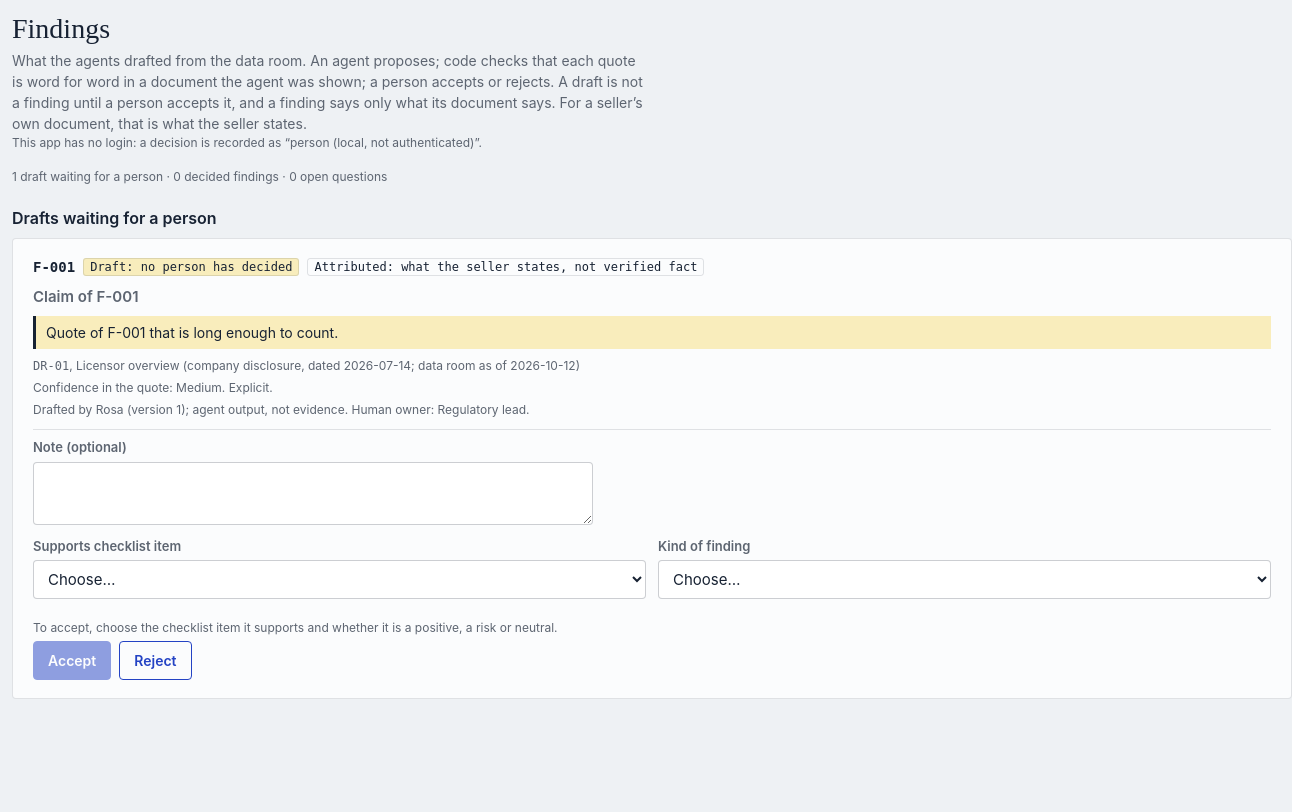
Test case: FindingsPanel › keeps the draft and says why when a decision is not saved
Select "Regional differences" in the dropdown named "Checklist item for F-001": (340, 580) [33,560,646,599]
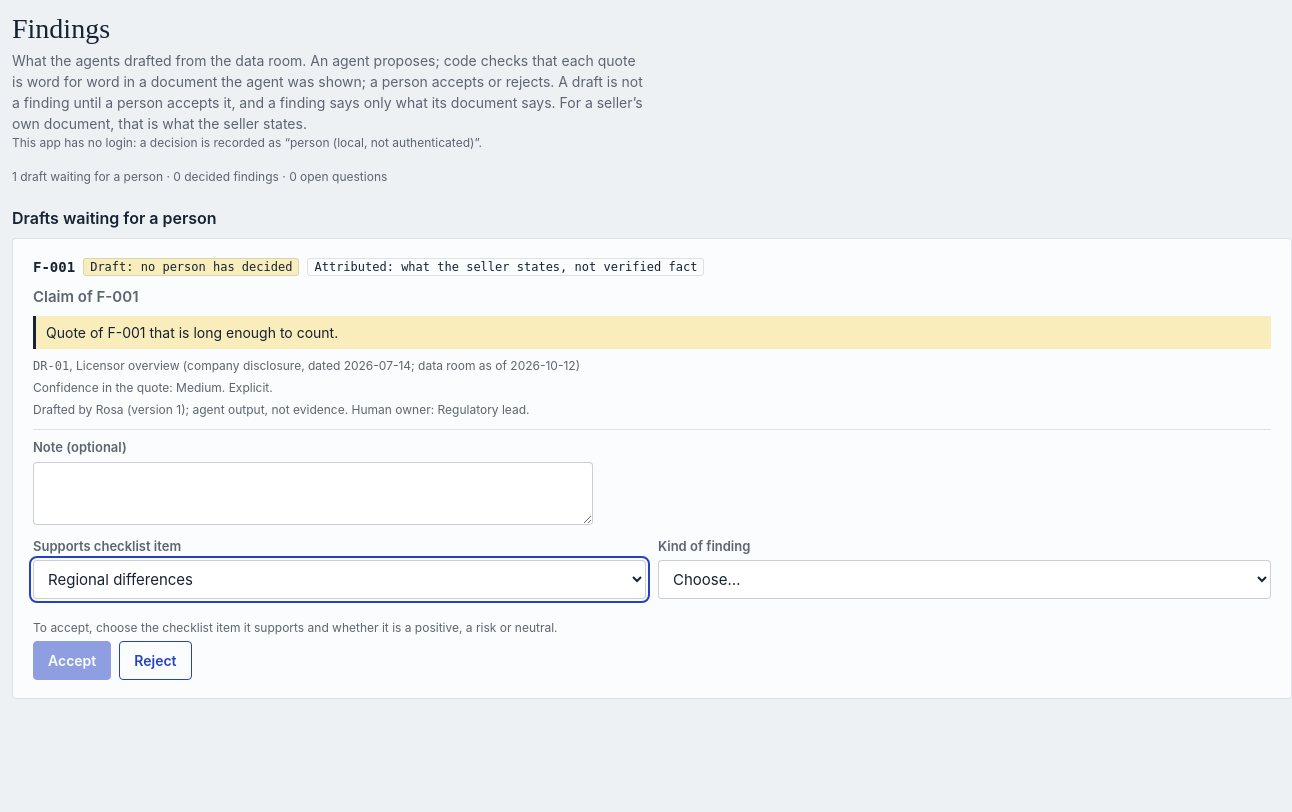
Select "Risk" in the dropdown named "Kind of finding for F-001": (964, 580) [658,560,1271,599]
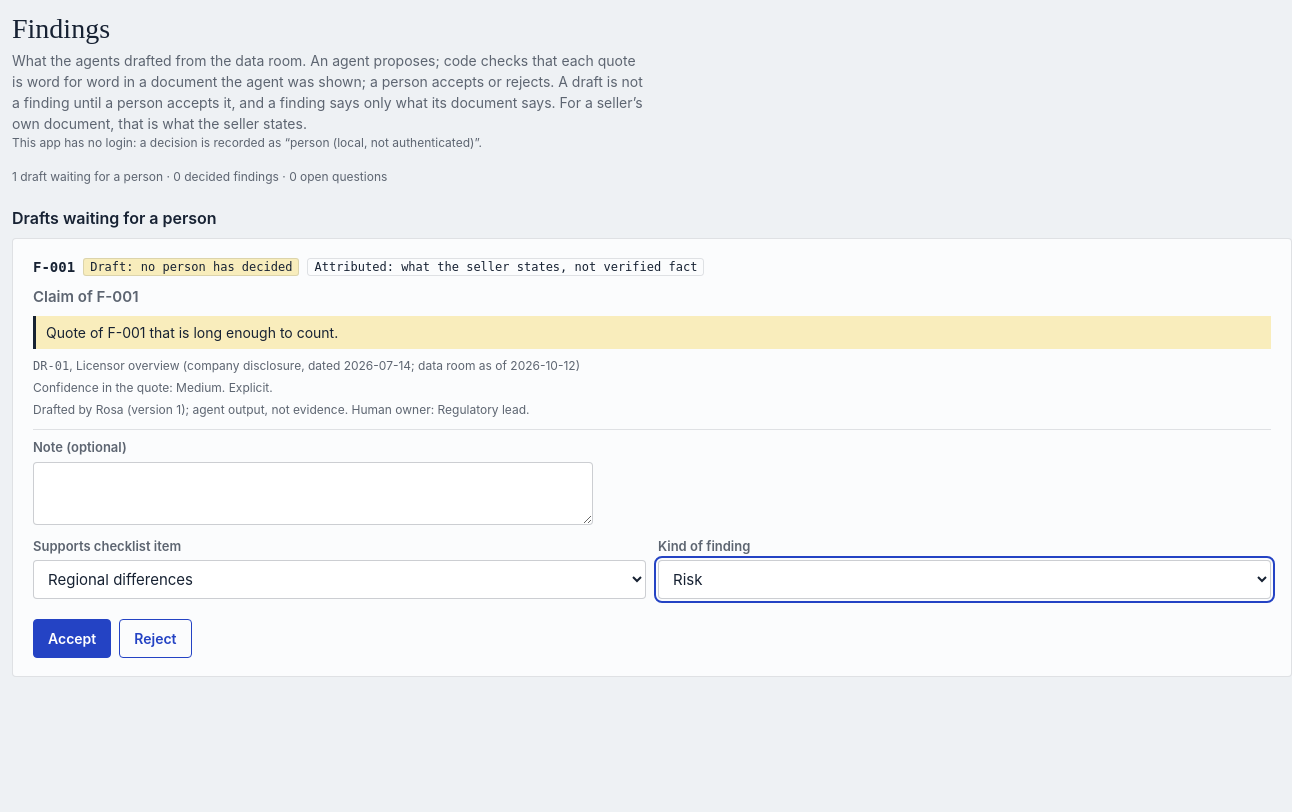
Click the button with aria-label "Accept F-001": (72, 639) [33,619,111,658]
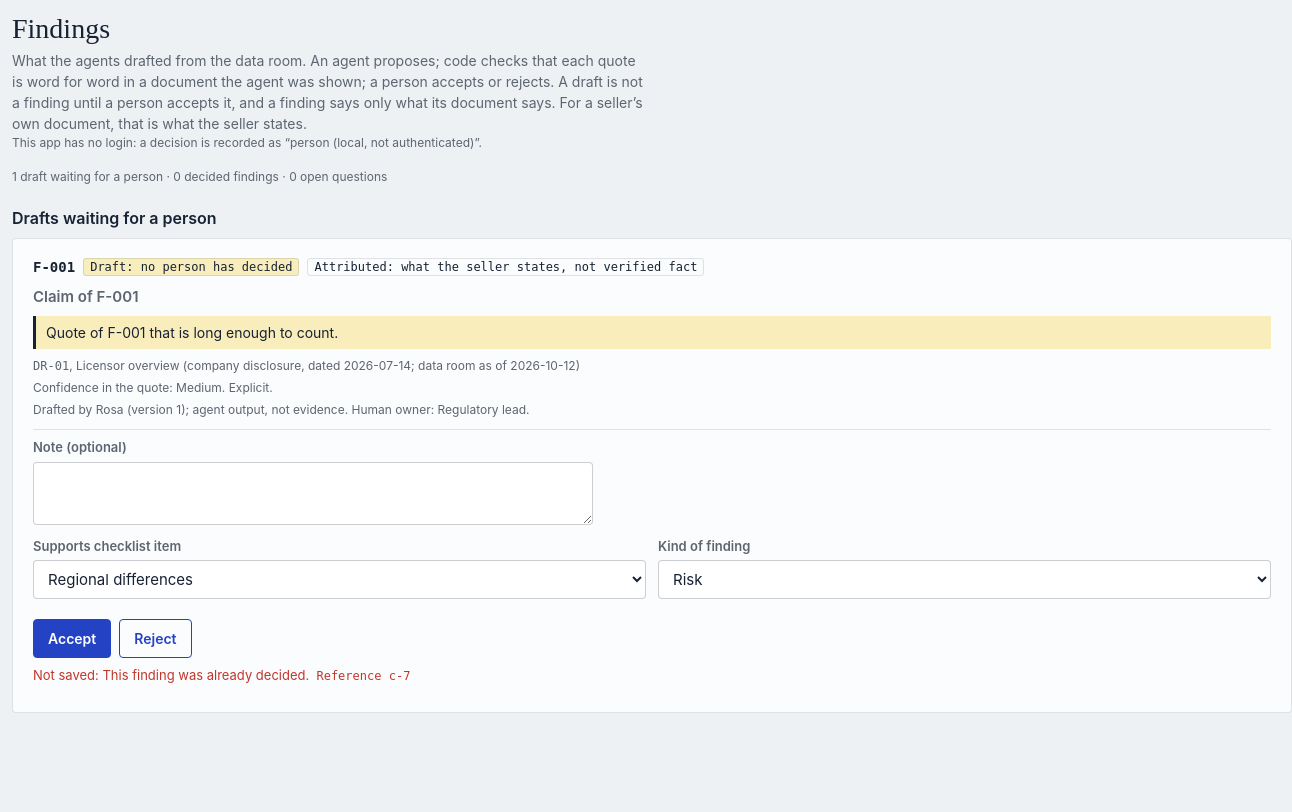
Expected: the text "Draft: no person has decided" is shown, [83,258,300,276]
Expected: the message shows "Not saved: This finding was already decided.", [33,667,410,683]
Expected: the message shows "Reference c-7", [33,667,410,683]
